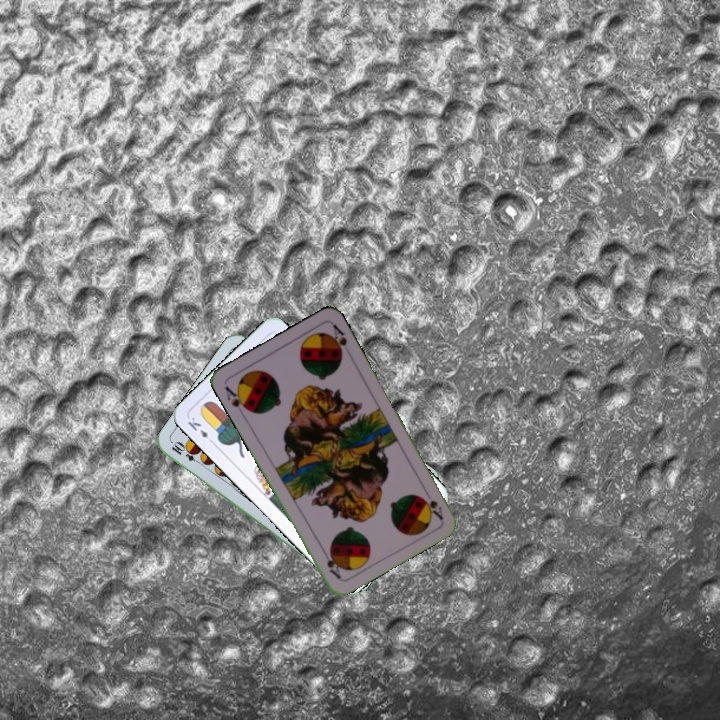E10: (167, 438, 205, 467)
EK: (184, 412, 217, 447)
SA: (221, 382, 253, 419), (419, 485, 446, 523)
